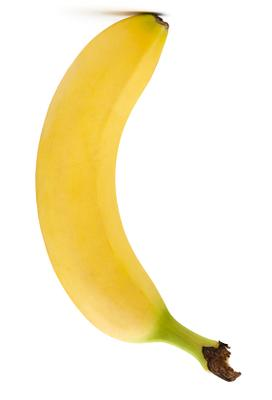banana: (0, 0, 272, 400)
